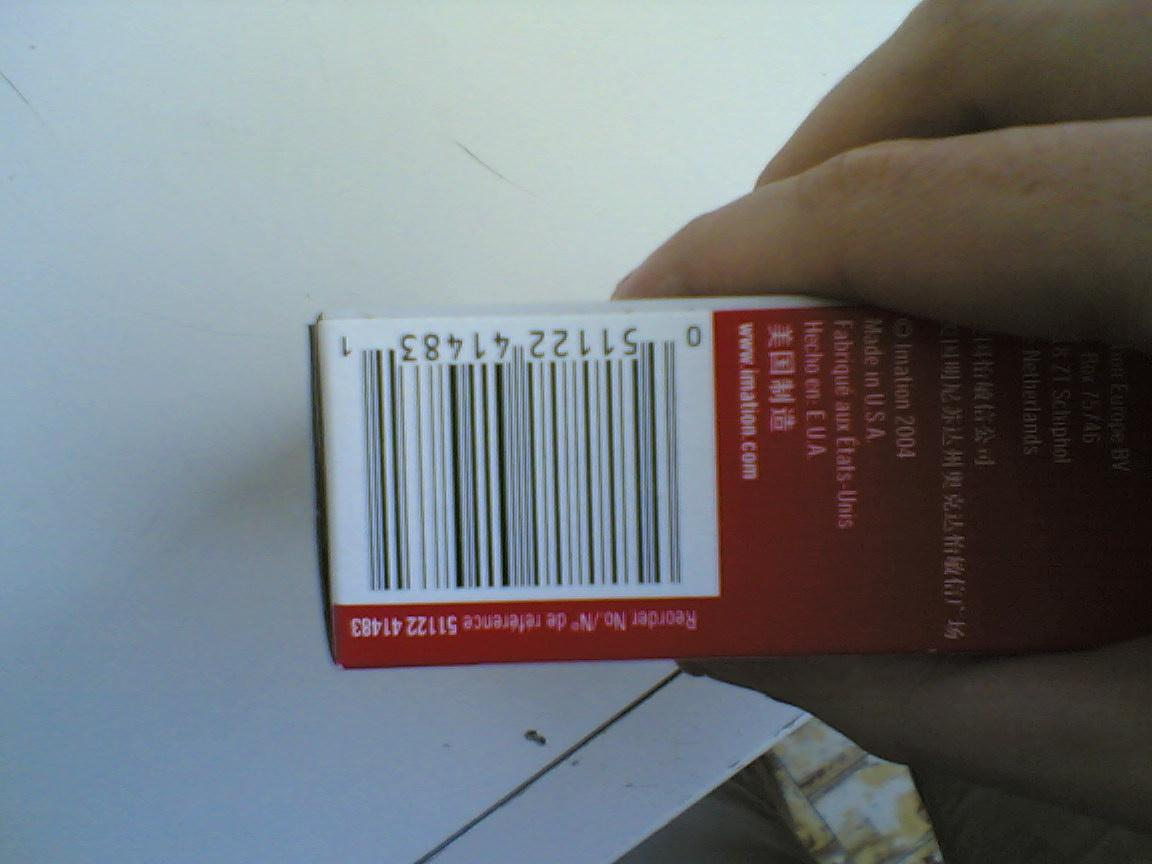Barcode: (307, 302, 719, 596)
